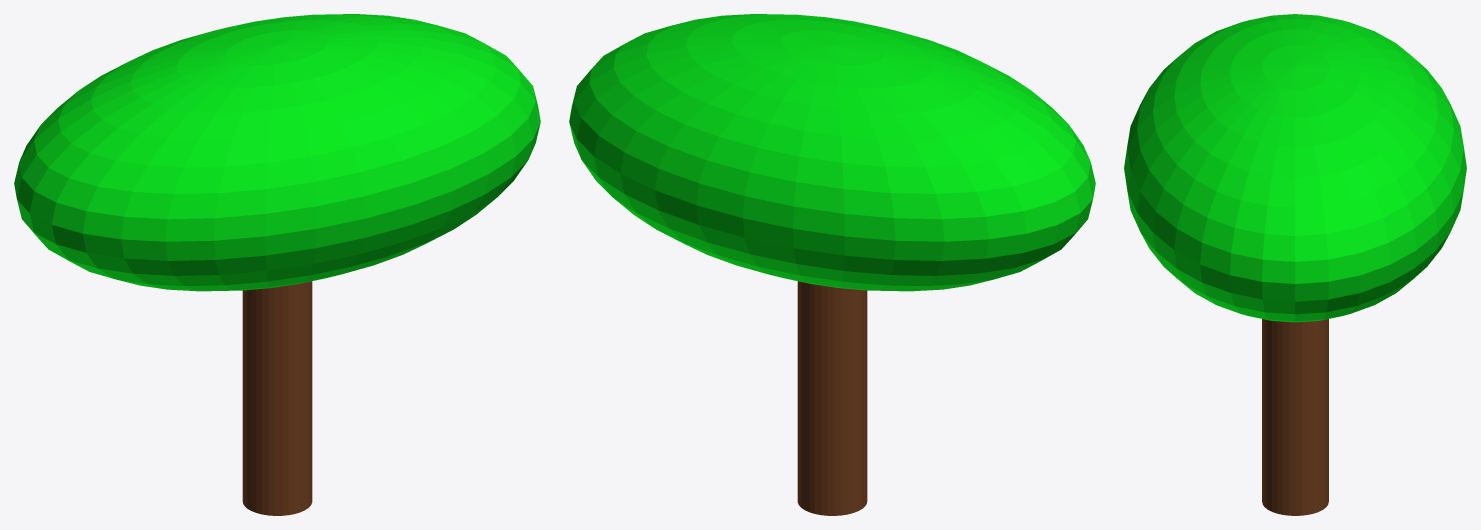
Rendered from Arvore1.fbx.
3 views of the same model, side by side, from view 1: azimuth 30°, elevation 25°; view 2: azimuth 150°, elevation 25°; view 3: azimuth 270°, elevation 25° (orthographic). The views are drawn at different scales.
Visible parts, largest first — view 1: Sphere, Cylinder; view 2: Sphere, Cylinder; view 3: Sphere, Cylinder.
Boxes of the visible parts, bbox=[...] form: Sphere: bbox=[14, 14, 540, 291]; Cylinder: bbox=[242, 281, 312, 515]; Sphere: bbox=[569, 14, 1095, 291]; Cylinder: bbox=[797, 281, 867, 515]; Sphere: bbox=[1124, 14, 1466, 322]; Cylinder: bbox=[1262, 319, 1328, 515].
Size of the model in its own units: 1643 by 1442 by 1028.
